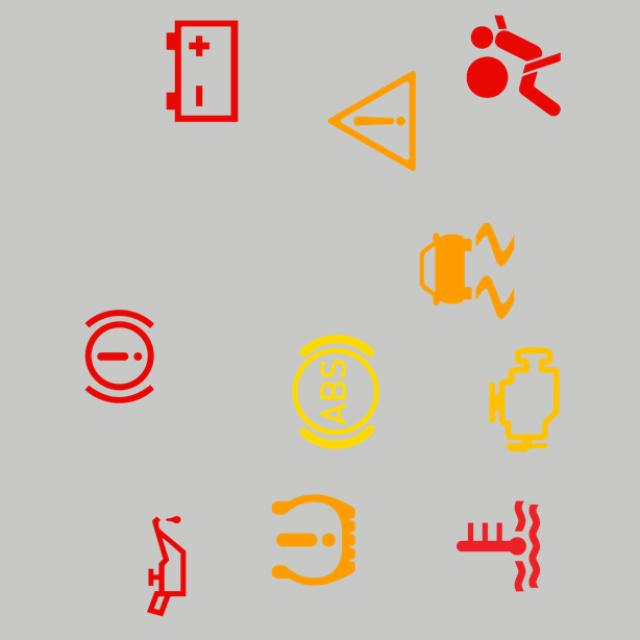Anti Lock Braking System: (273, 330, 398, 454)
Braking System Issue: (58, 294, 182, 419)
Charging System Issue: (140, 8, 264, 134)
Check Engine: (462, 336, 587, 462)
Electronic Stability Problem -ESP-: (404, 208, 530, 334)
Engine Overheating Warning Light: (436, 484, 560, 608)
Low Engine Oil Warning Light: (104, 504, 230, 628)
Low Tire Pressure Warning Light: (251, 478, 376, 602)
Master warning light: (310, 58, 434, 184)
SRS-Airbag: (452, 3, 576, 128)
